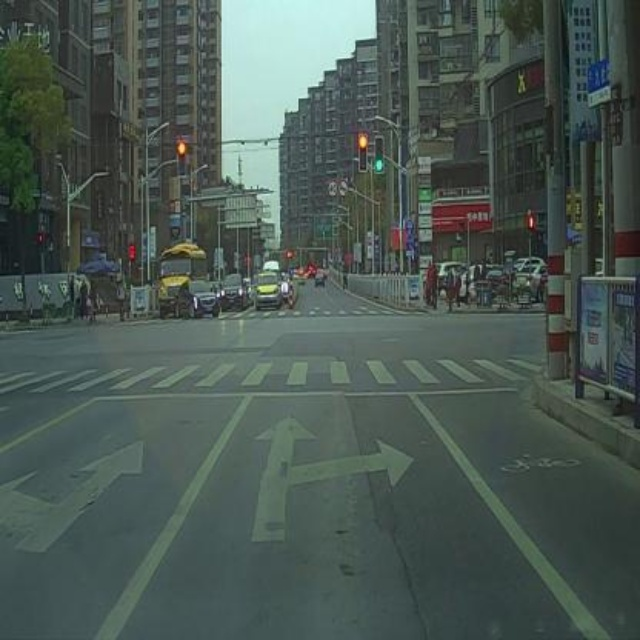Đèn đỏ: (358, 130, 368, 173), (178, 136, 188, 178)
